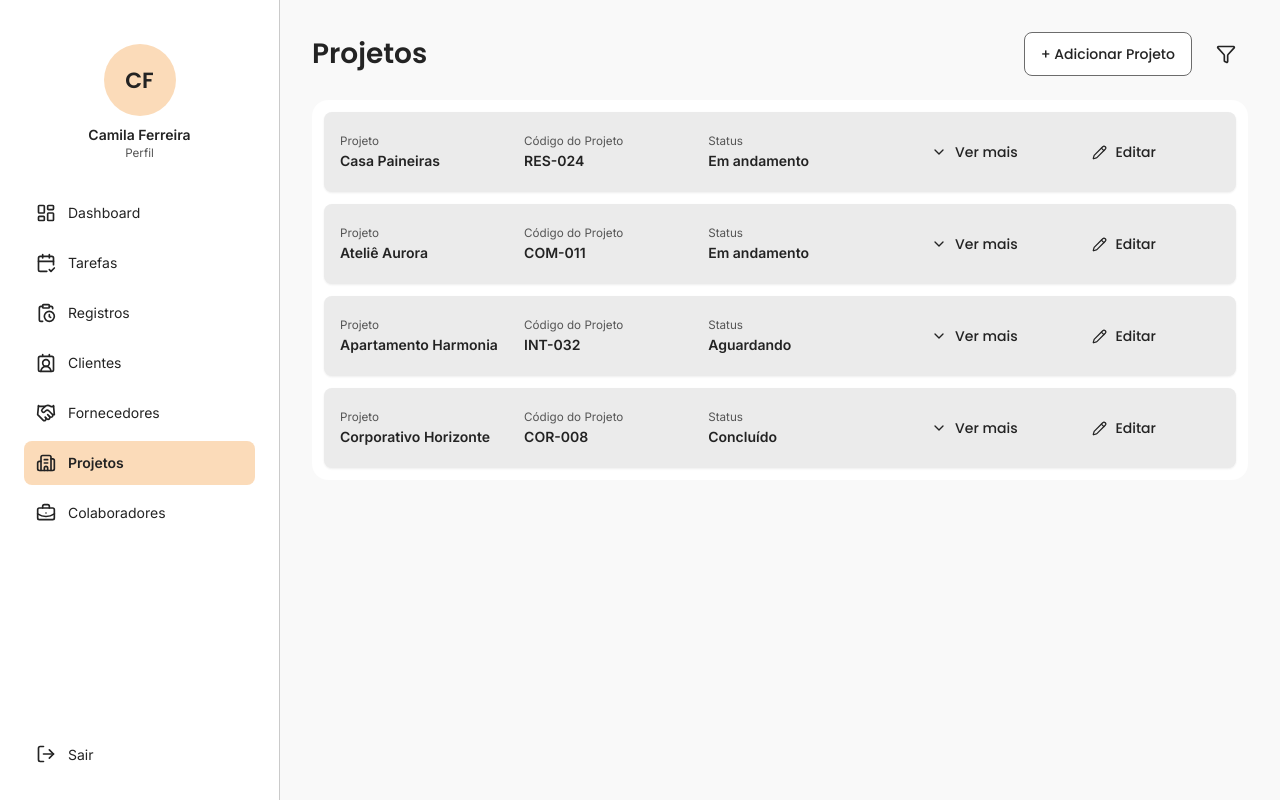
Test: Listas › Filtros: desmarcar tudo não mostra nada e "Selecionar tudo" restaura
What coordinates should you click on to do the following:
click the button named "filtrar"
I would click on:
 (1226, 54)
Its box is [1204, 32, 1248, 76].
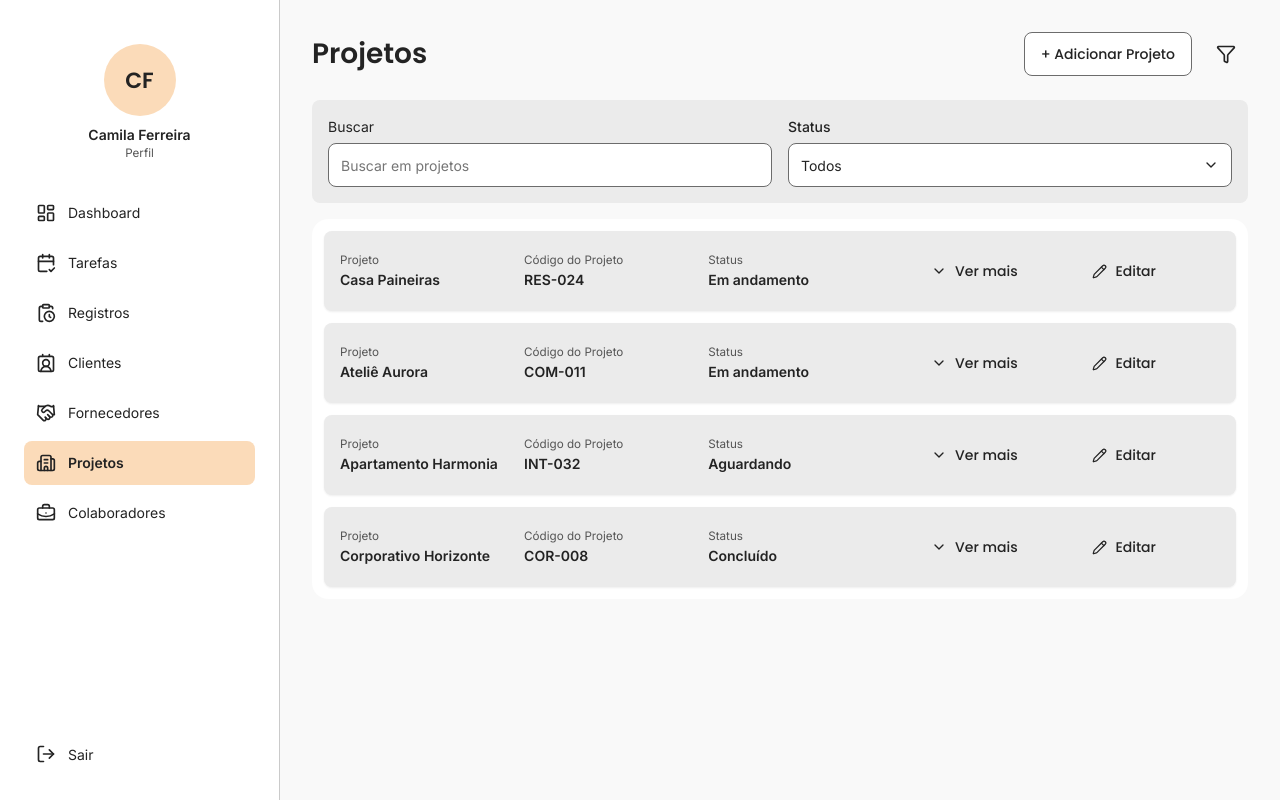
What coordinates should you click on to do the following:
click the button "Todos"
I would click on:
 (821, 165)
Its box is [788, 143, 1232, 187].
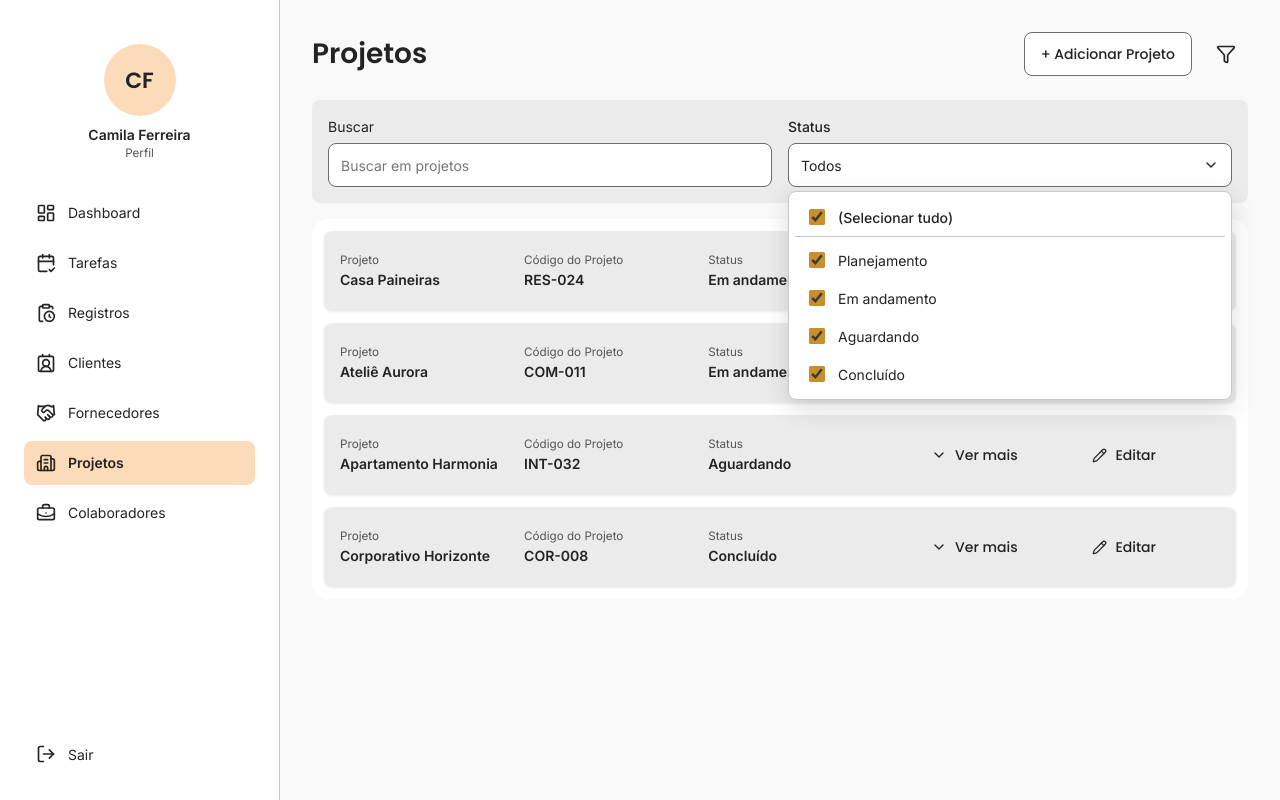
What coordinates should you click on to do the following:
click the checkbox labelled "(Selecionar tudo)"
I would click on:
 (817, 217)
Its box is [809, 209, 825, 225].
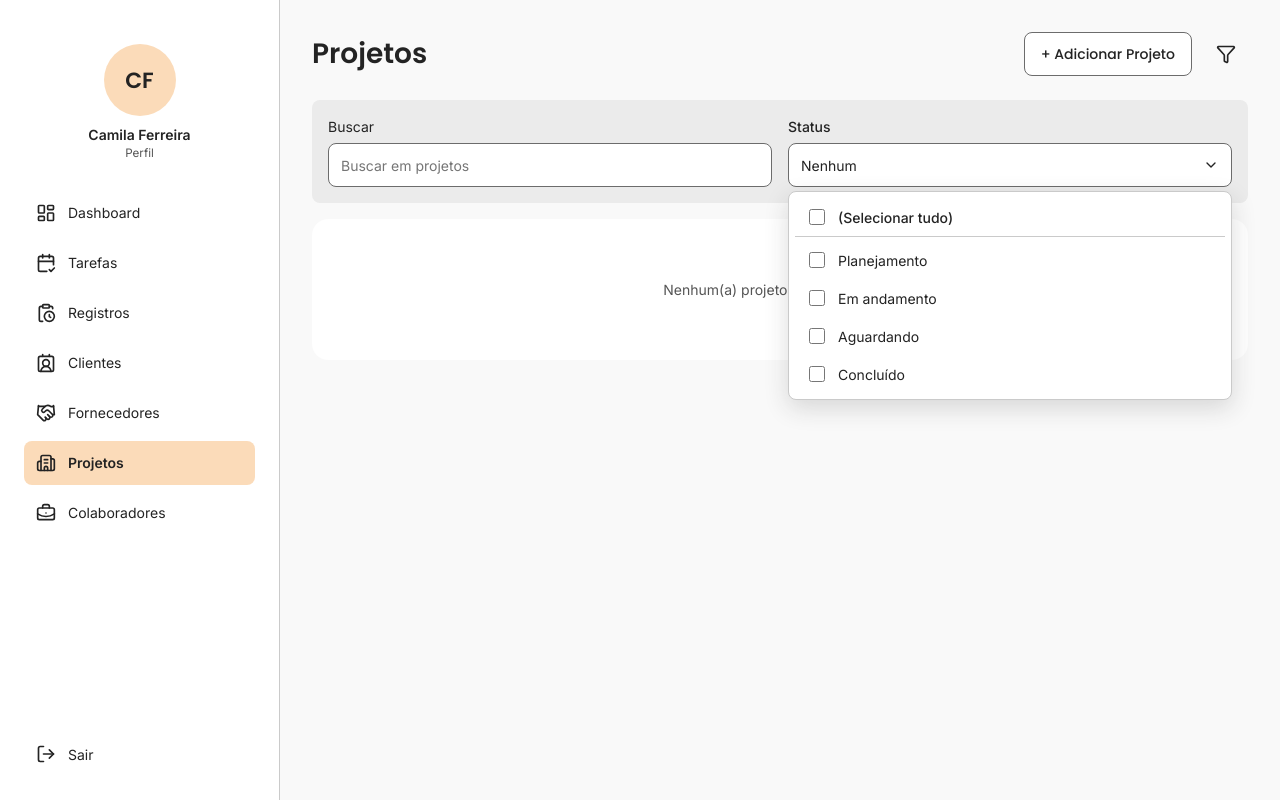
Expected: the text "Nenhum(a) projetos encontrado(a)." is shown, [663, 281, 897, 298]
What coordinates should you click on to do the following:
click the checkbox labelled "(Selecionar tudo)"
I would click on:
 (817, 217)
Its box is [809, 209, 825, 225].
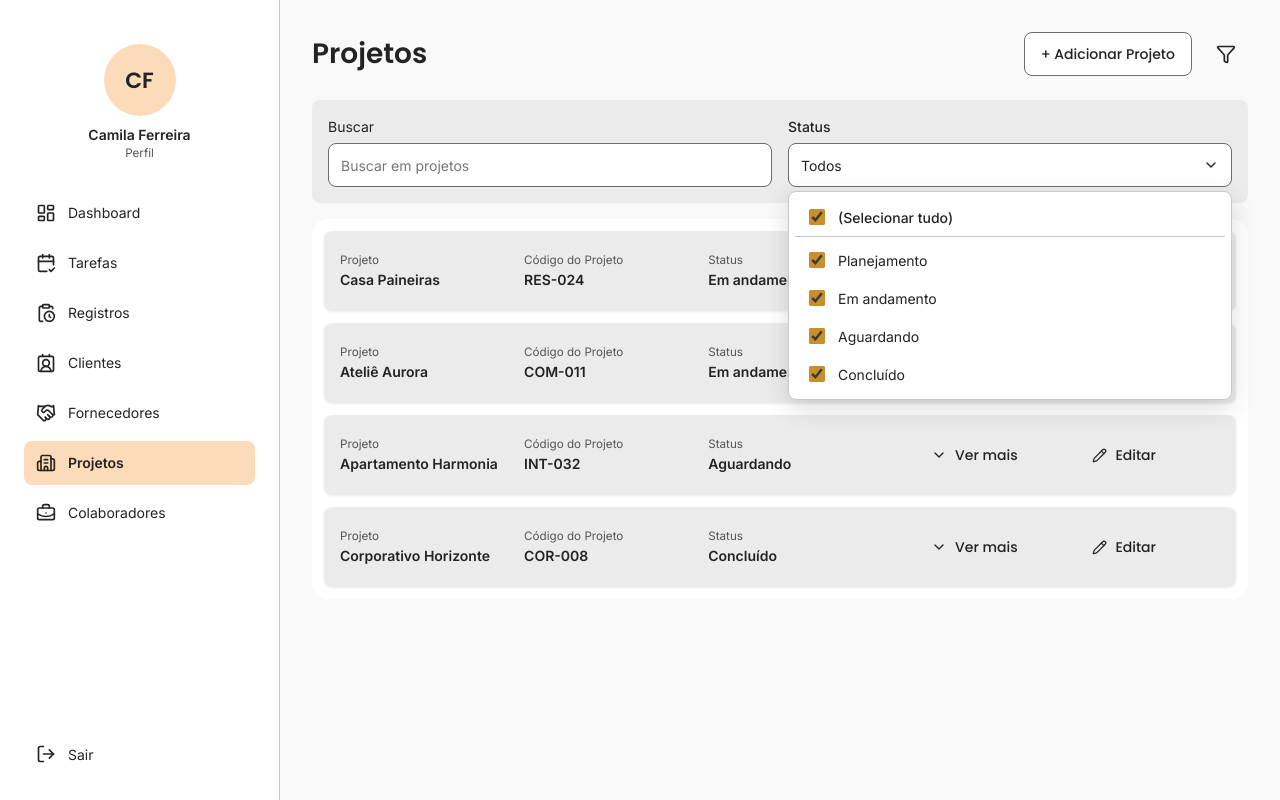
Expected: the text "Casa Paineiras" is shown, [340, 271, 440, 288]
